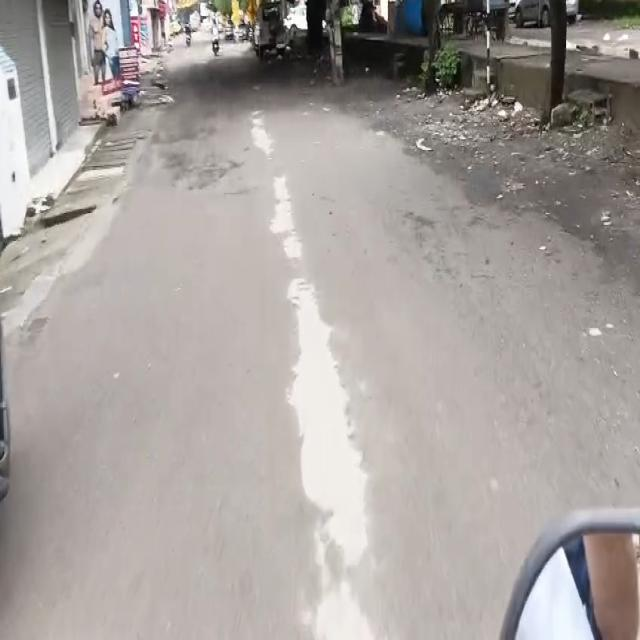road-pothole: (148, 130, 238, 191)
